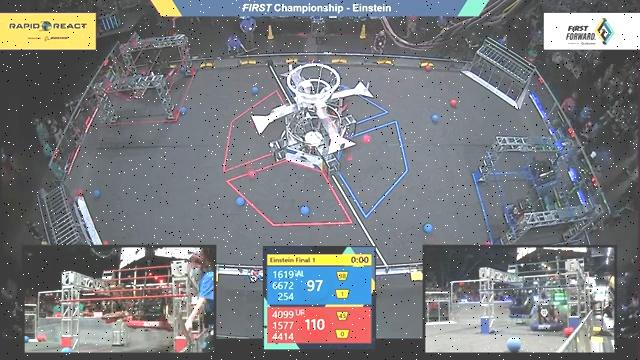Robot: (533, 181, 593, 233), (521, 146, 569, 191), (499, 191, 542, 235), (110, 65, 149, 106), (139, 51, 179, 89), (319, 83, 350, 119)
